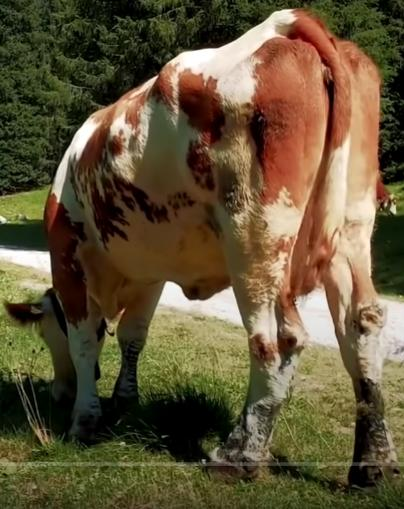cow: (6, 7, 385, 485)
